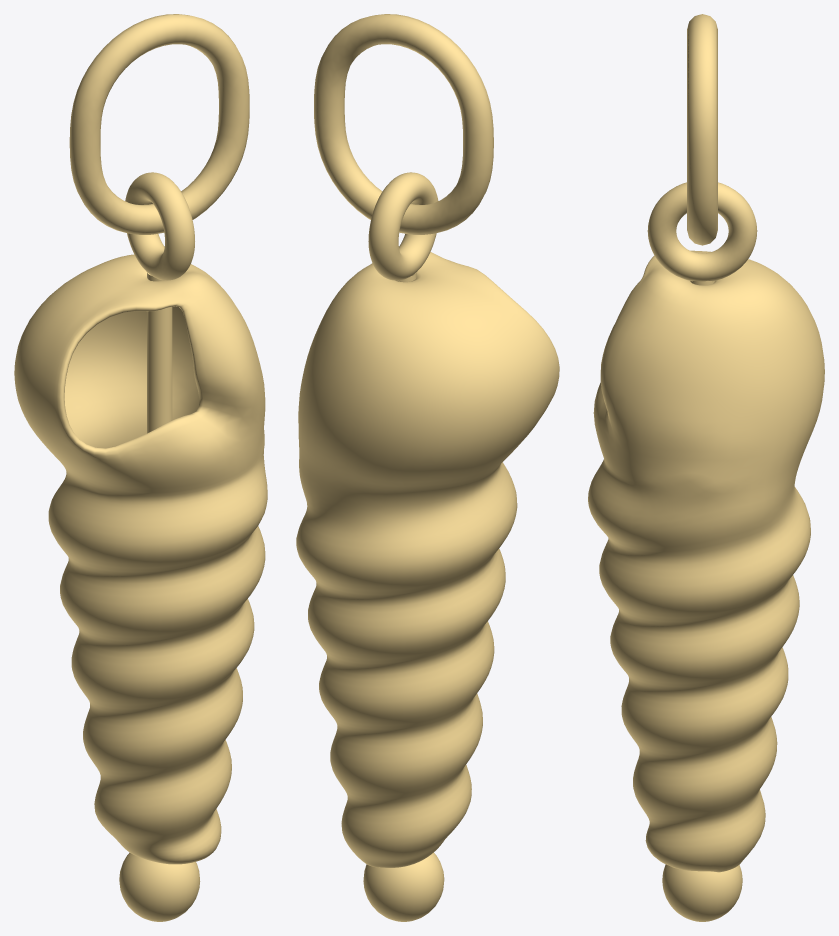
File: spiral_shell.glb
3 renders of one model, left to right at view 1: azimuth 30°, elevation 25°; view 2: azimuth 150°, elevation 25°; view 3: azimuth 270°, elevation 25°, orthographic.
Visible parts, largest first — view 1: spiral_shell_low; view 2: spiral_shell_low; view 3: spiral_shell_low.
Part boxes in pixels (bbox=[...]): spiral_shell_low: bbox=[14, 14, 267, 921]; spiral_shell_low: bbox=[296, 14, 559, 921]; spiral_shell_low: bbox=[588, 14, 824, 921].
Size of the model in its own units: 0.00446 by 0.0172 by 0.00411.
1 material, 1 textured.
